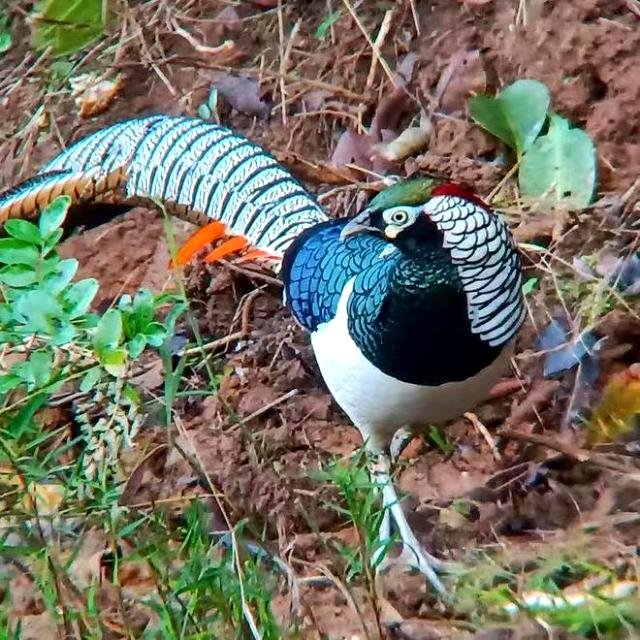Chrysolophus amherstiae: (0, 116, 327, 259)
